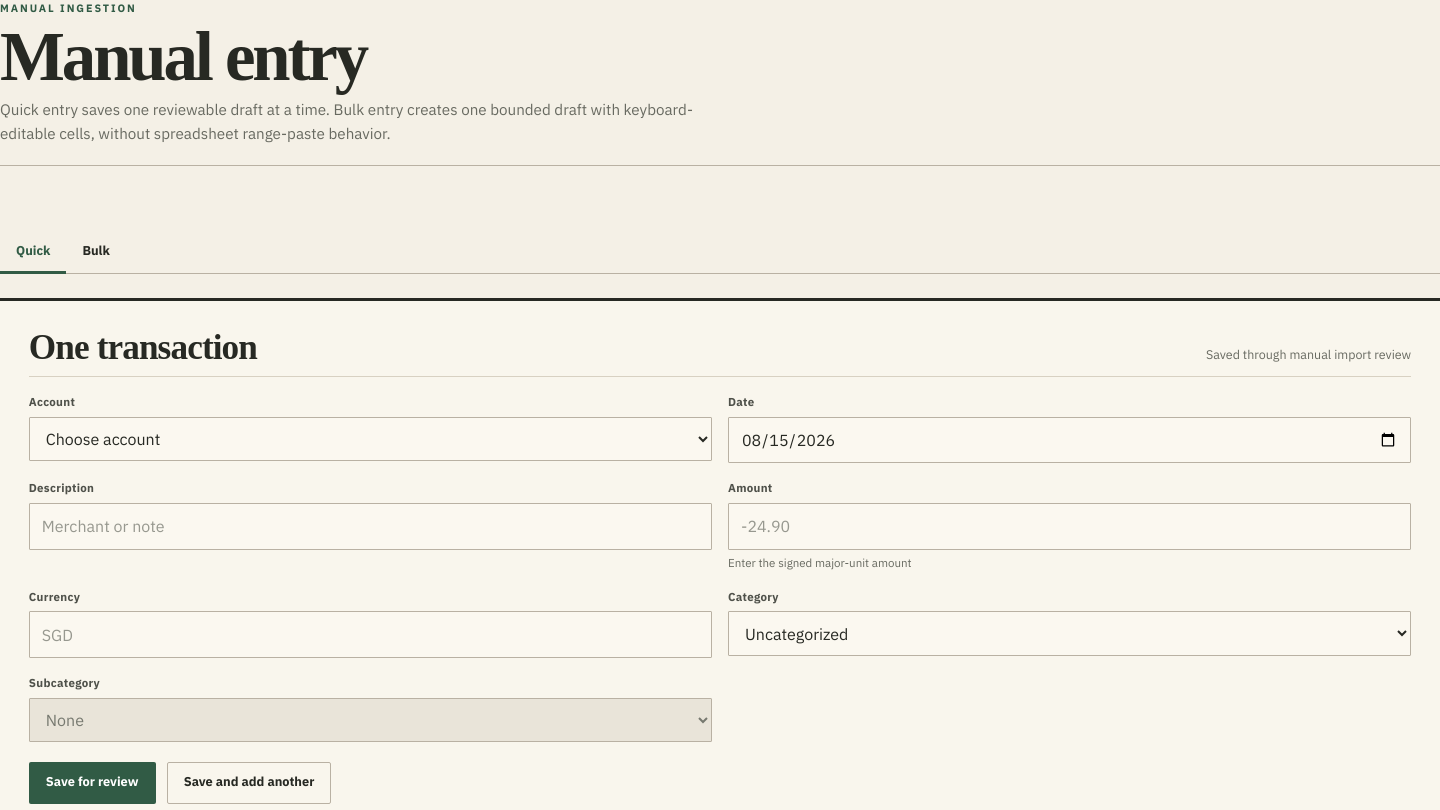
ManualEntryPage taxonomy › renders the bulk date editor without an unregistered-module error
Click the button "Bulk" at (96, 252), box [66,230,126,273]
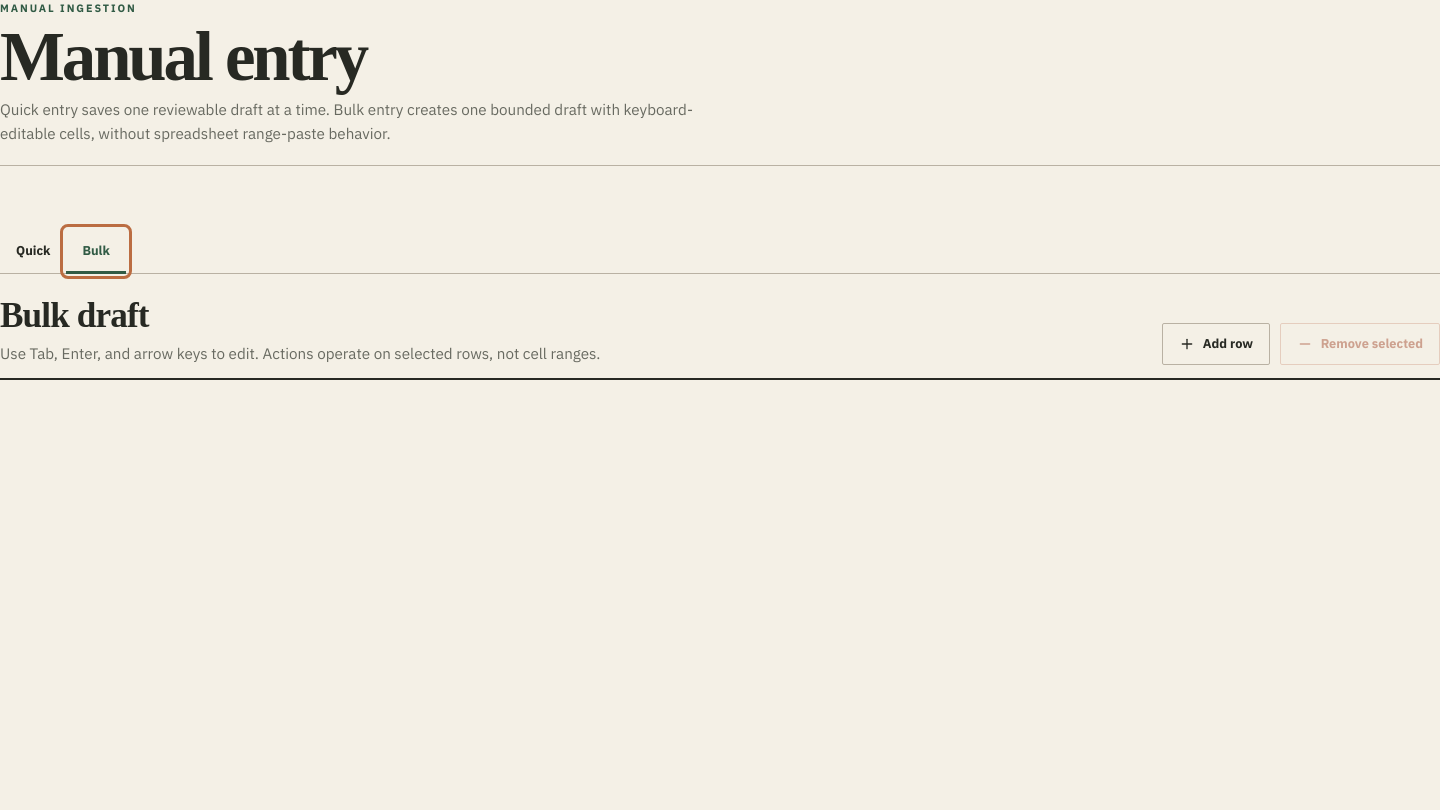
Now the heading "Bulk draft" is shown, box [0,296,149,335]
